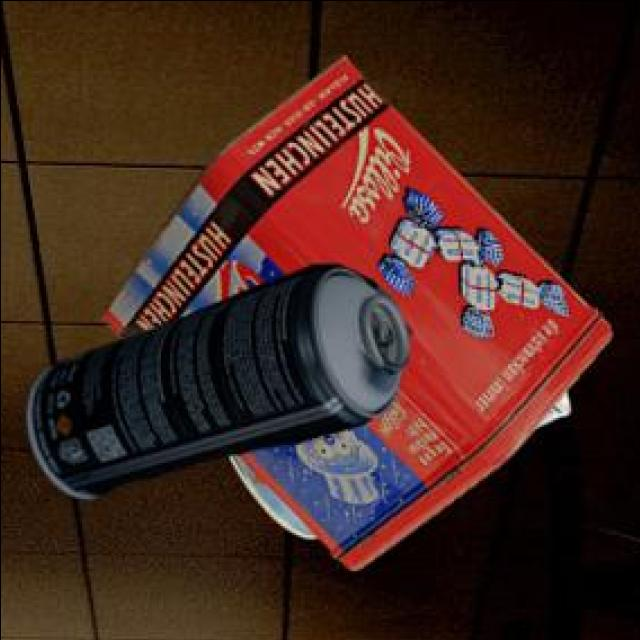logam: (103, 57, 614, 574), (30, 267, 414, 501), (232, 393, 571, 540)
